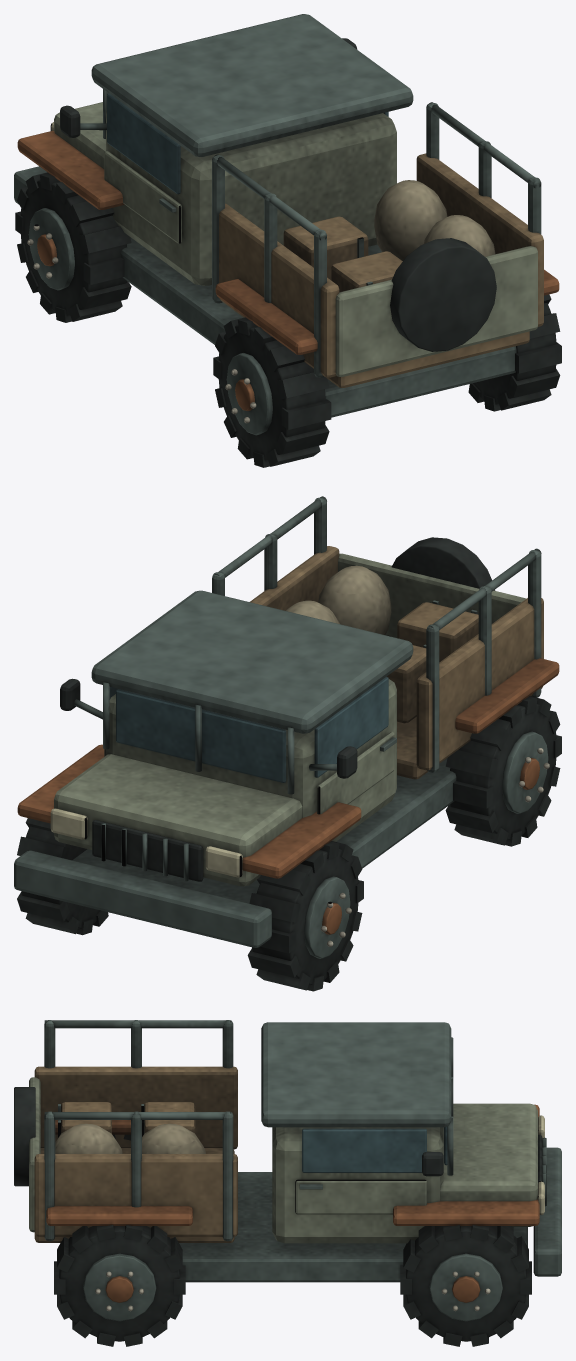
Rendered from SalvageTruck.fbx.
3 renders of one model, top to bottom at view 1: azimuth 30°, elevation 25°; view 2: azimuth 150°, elevation 25°; view 3: azimuth 270°, elevation 25°, orthographic. The views are drawn at different scales.
Parts seen in each view (by area): view 1: SalvageTruck; view 2: SalvageTruck; view 3: SalvageTruck.
Boxes of the visible parts, box(x1,y1,x2,y2) form: SalvageTruck: box(14, 14, 561, 467); SalvageTruck: box(14, 496, 561, 991); SalvageTruck: box(14, 1020, 561, 1346).
Bounding box in the file's own units: 1.81 × 1.47 × 3.29.
1 material, 1 textured.
